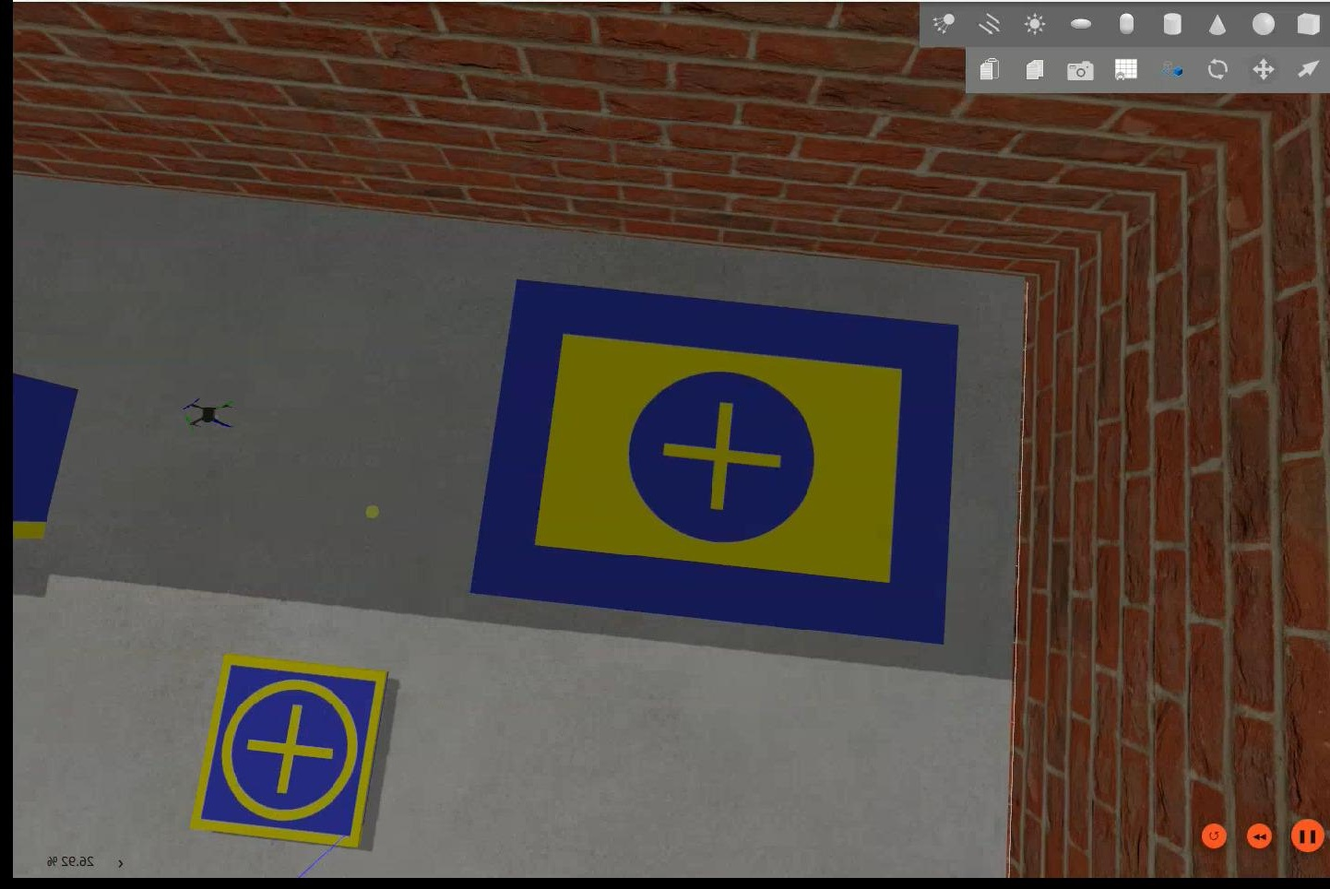large_base: (464, 277, 960, 653)
small_base: (185, 657, 387, 850)
